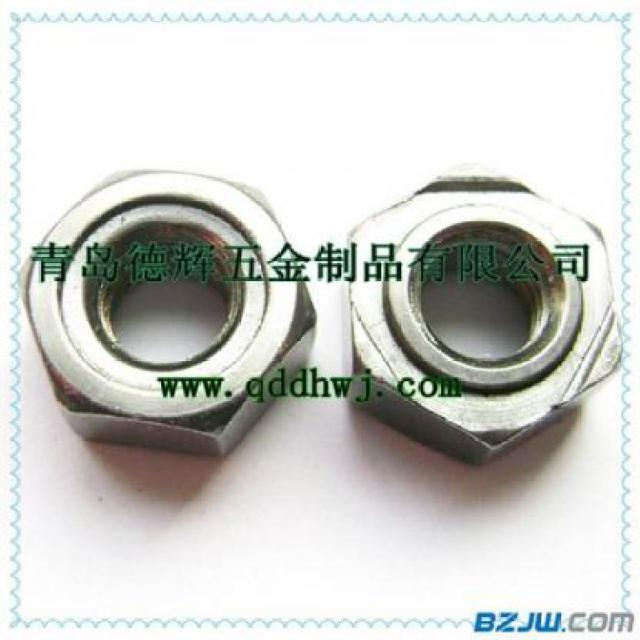Nut: (338, 156, 622, 469), (18, 166, 317, 459)
